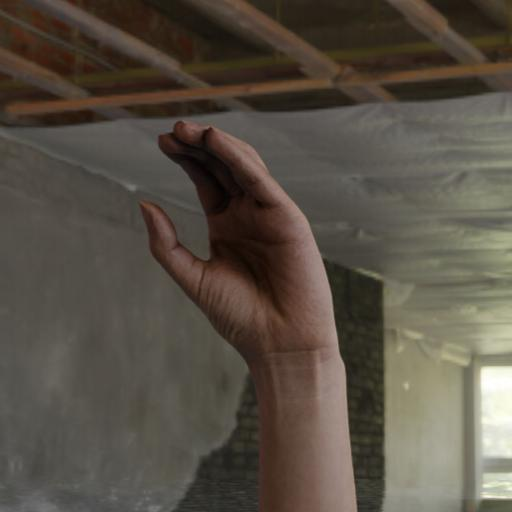C: (67, 98, 418, 396)
